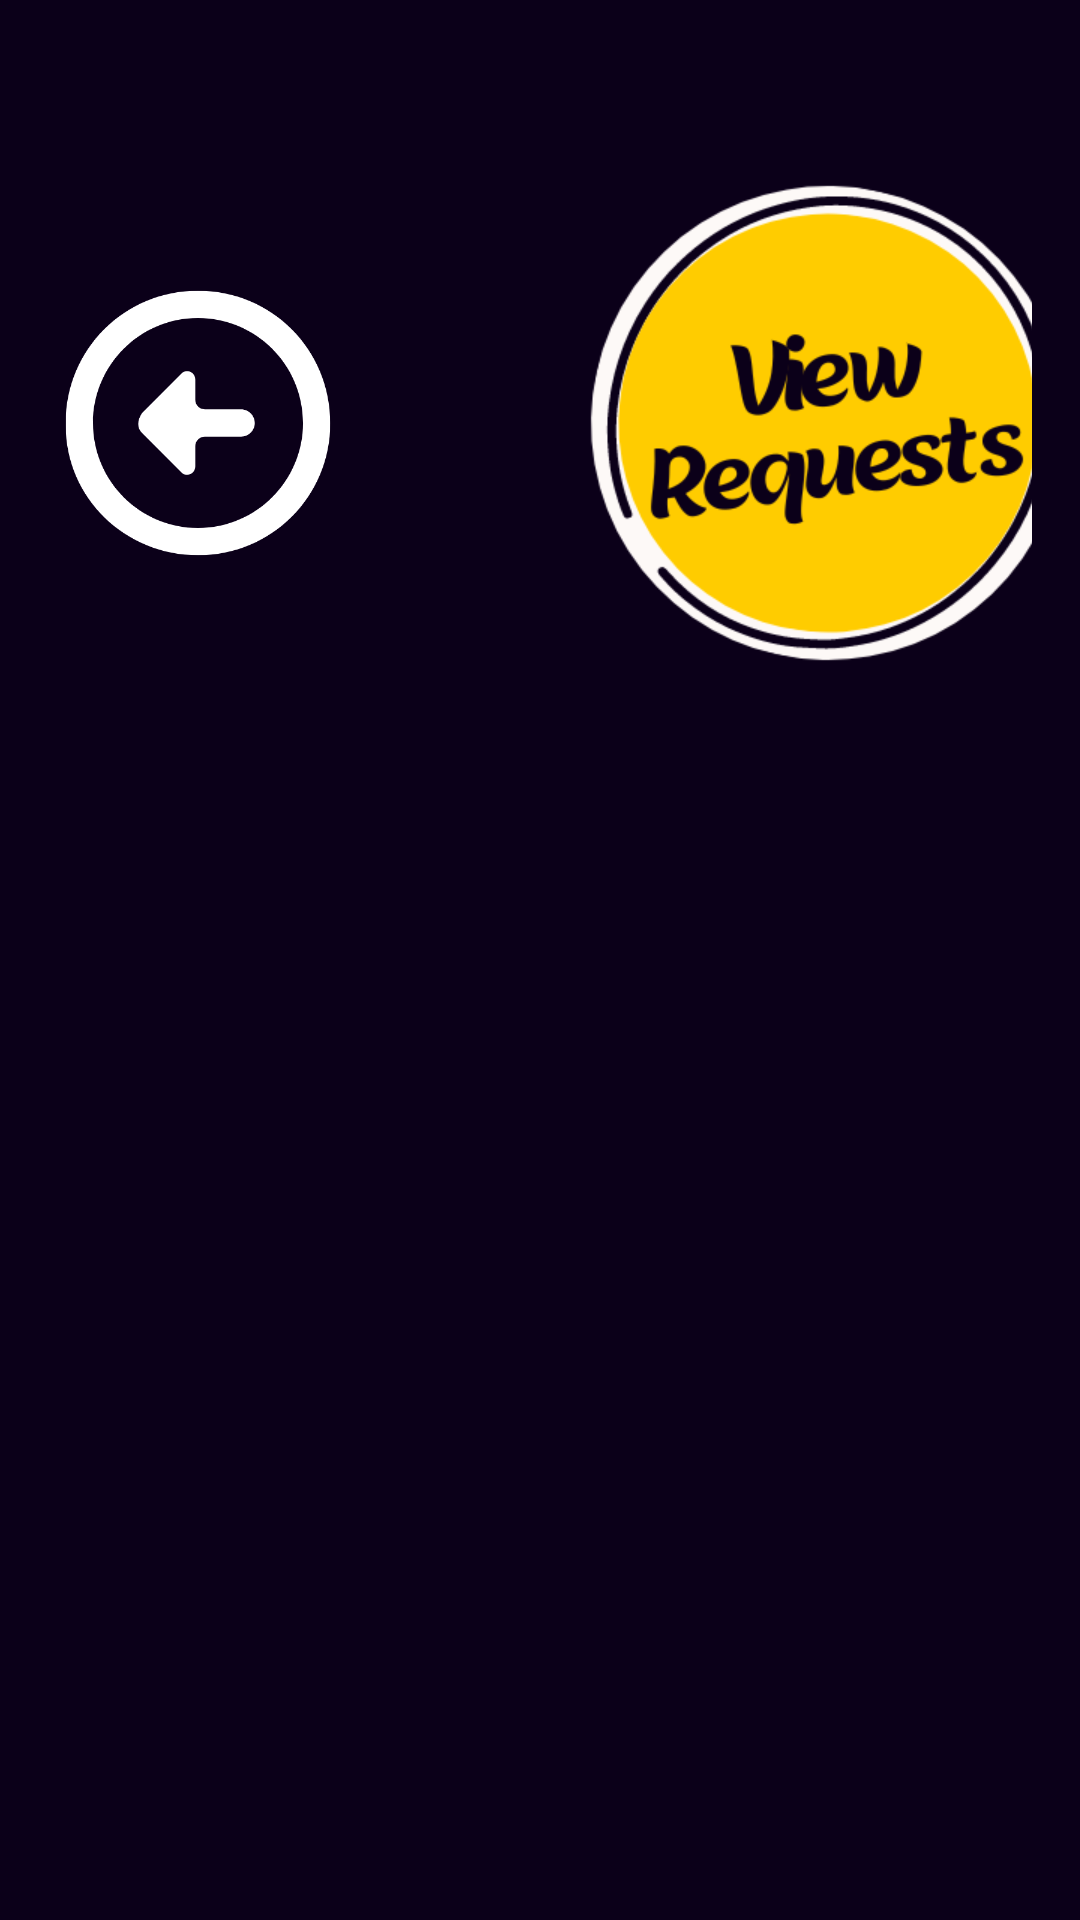

Screen size 1080x1920. Icon name, then its box in pixels as (x1, y1, x2, y2):
backbutton: (66, 291, 330, 555)
